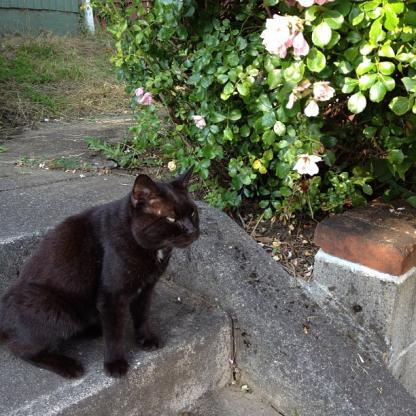Target: (0, 168, 204, 383)
